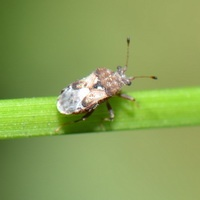insect: (57, 38, 156, 115)
